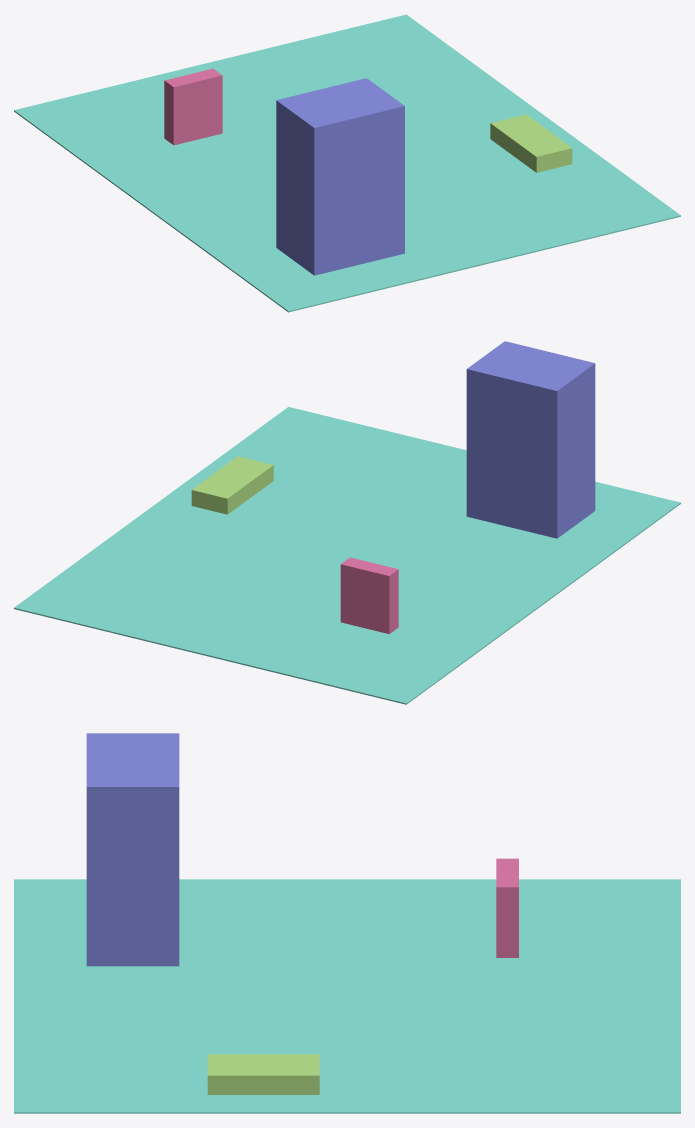
File: shuriken-simulator-level-one.glb
The picture shows the model from 3 angles, top to bottom: view 1: azimuth 30°, elevation 25°; view 2: azimuth 150°, elevation 25°; view 3: azimuth 270°, elevation 25°; orthographic projection. The views are drawn at different scales.
Parts seen in each view (by area): view 1: Cube, Cube.001, Cube.002, Cube.003; view 2: Cube, Cube.001, Cube.002, Cube.003; view 3: Cube, Cube.001, Cube.003, Cube.002.
Boxes of the visible parts, x1,y1,x2,y2 form: Cube: (14,14,680,312); Cube.001: (276,78,404,275); Cube.002: (164,68,222,145); Cube.003: (490,114,572,172); Cube: (14,407,680,704); Cube.001: (466,341,595,538); Cube.002: (340,557,398,634); Cube.003: (191,456,273,514); Cube: (14,879,680,1113); Cube.001: (86,733,179,966); Cube.003: (207,1054,319,1094); Cube.002: (496,858,518,957).
Bounding box in the file's own units: 73.86 × 26.78 × 89.48.
